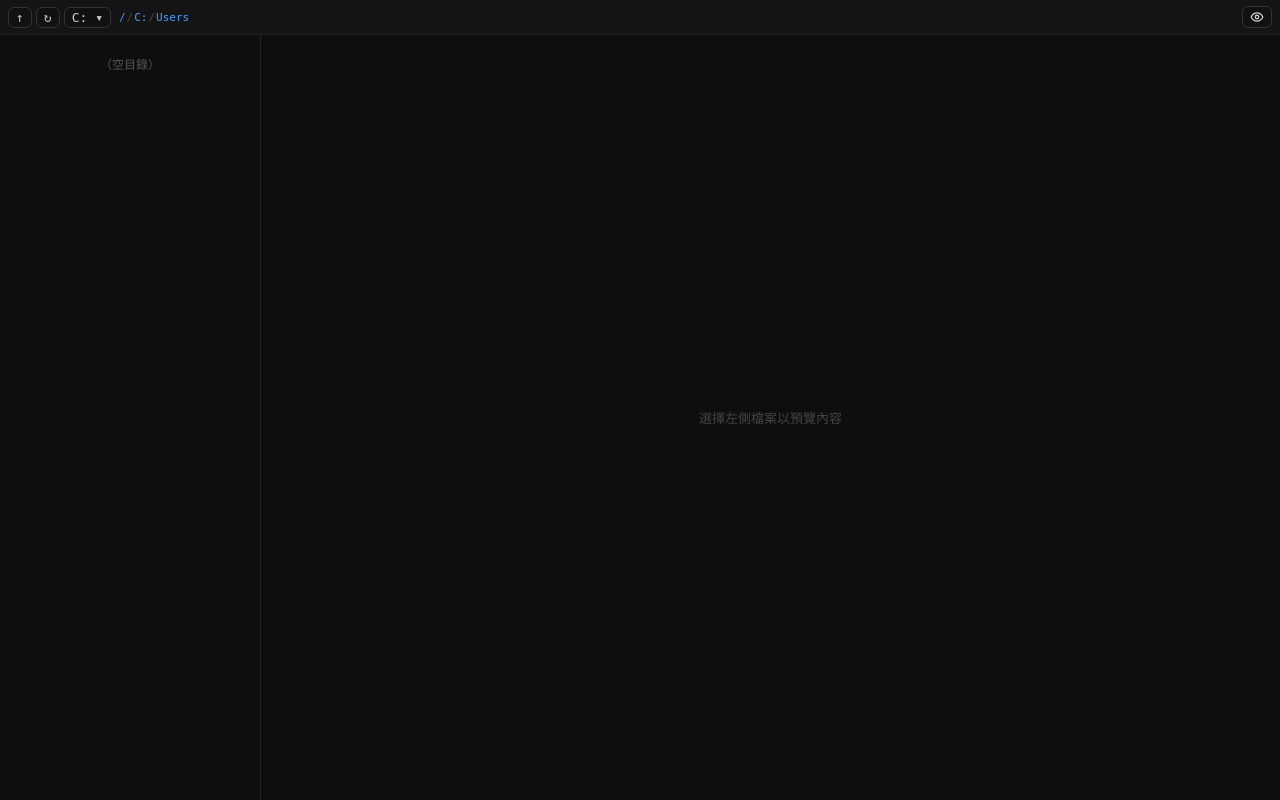
FileExplorer — drive switcher › closes the menu when the backdrop is clicked
Click the button titled "切換磁碟機".
click(87, 17)  # box [64,6,111,28]
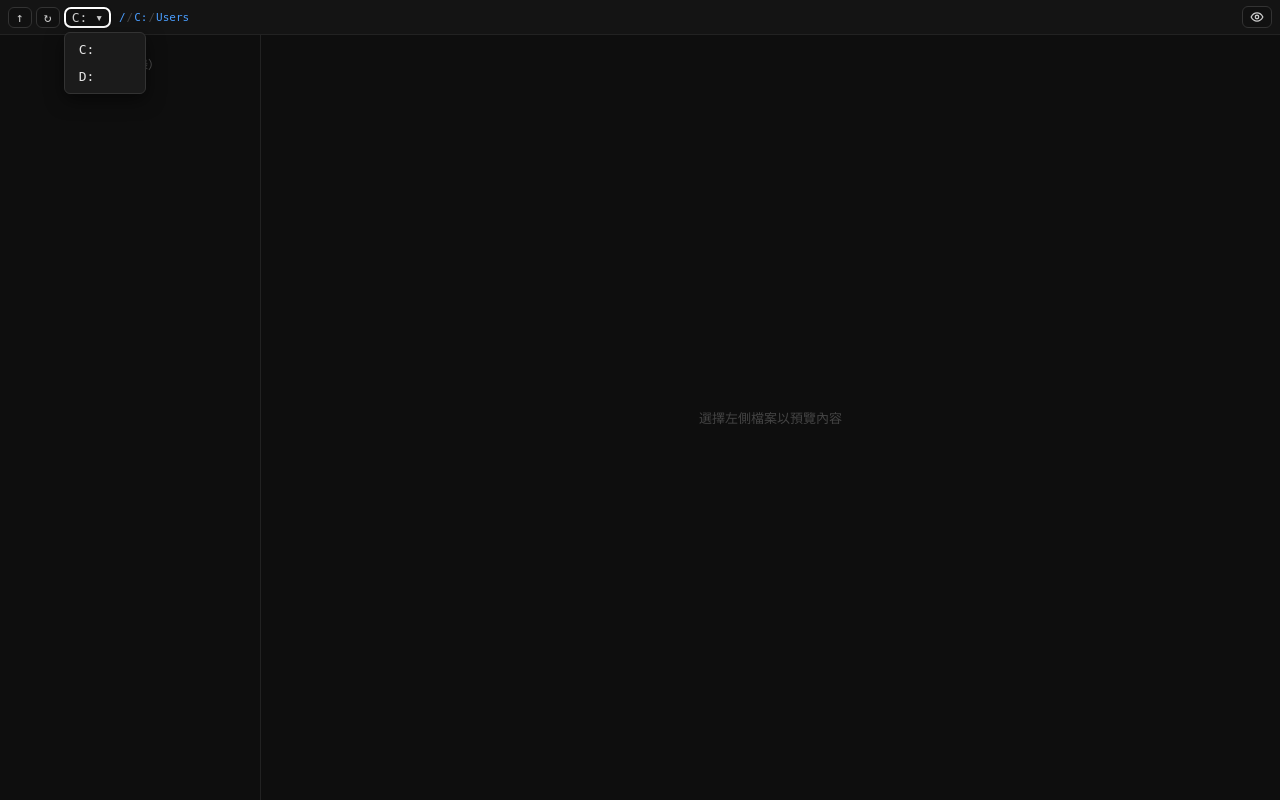
Check: the button "D:" is shown, box [69,64,141,88]
Check: the element with class "fe-drive-backdrop" is shown
Click the element with class "fe-drive-backdrop".
click(640, 400)  # box [0,0,1279,799]
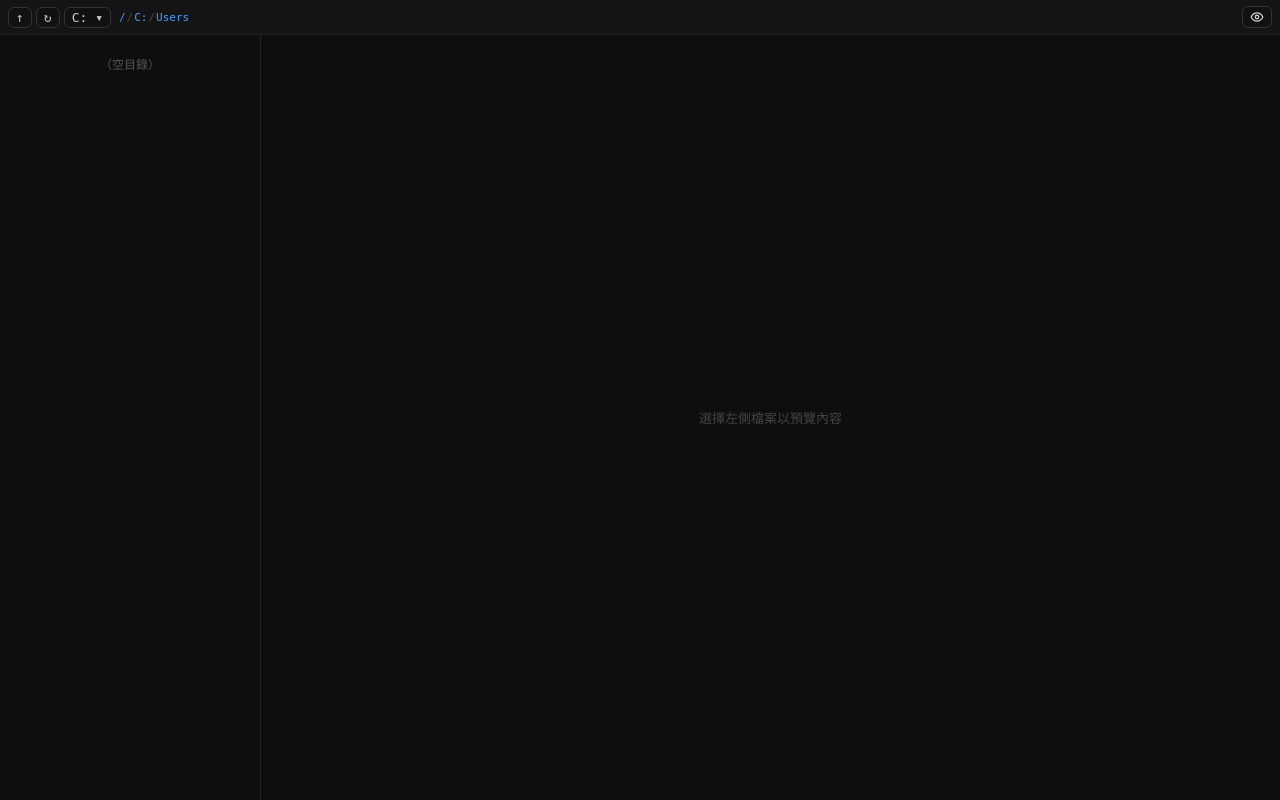
Check: the button "D:" is gone
